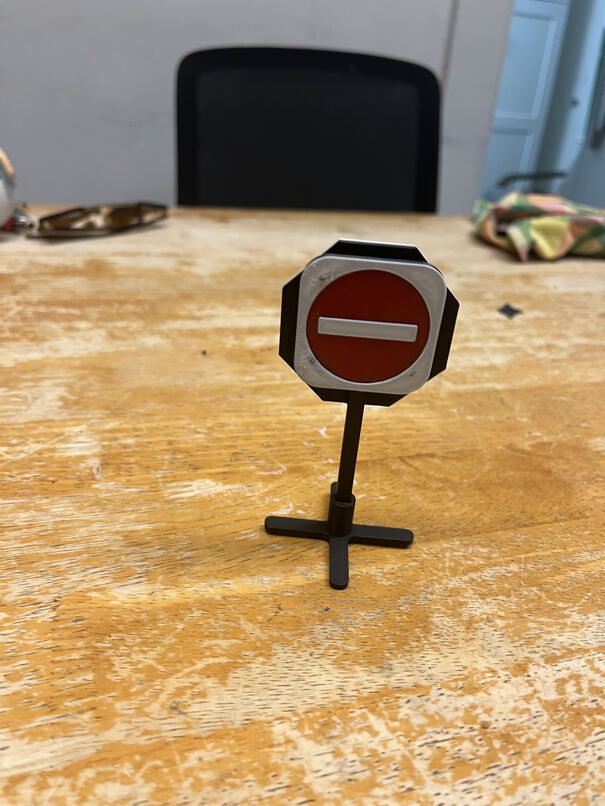sign_noentry: (292, 257, 449, 397)
